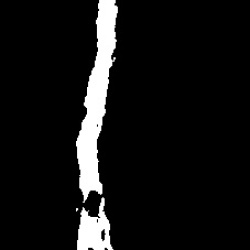crack: (73, 3, 118, 247)
